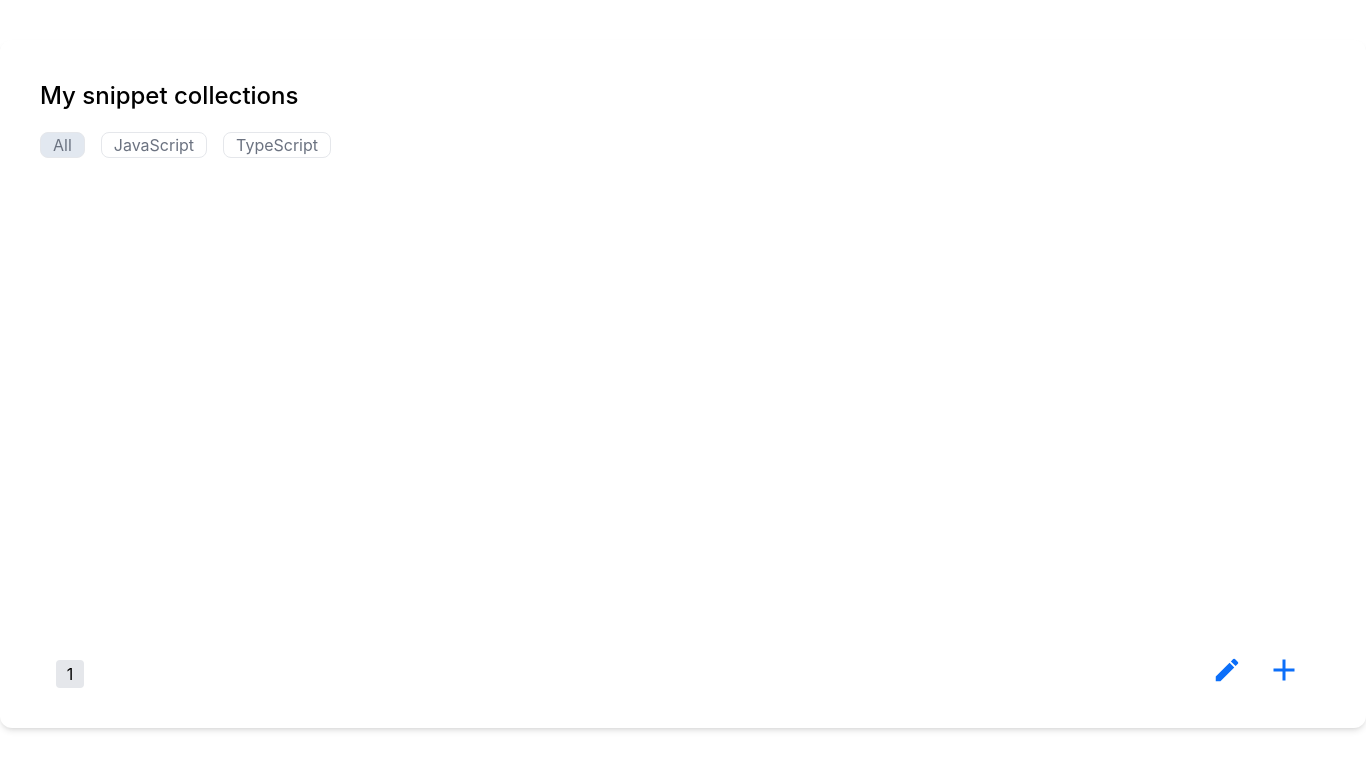
it: Given a GenericCard component › When it's rendered and someone click the All button › Then it should change its state
Click the button "All" at (62, 145), box [53,133,72,157]
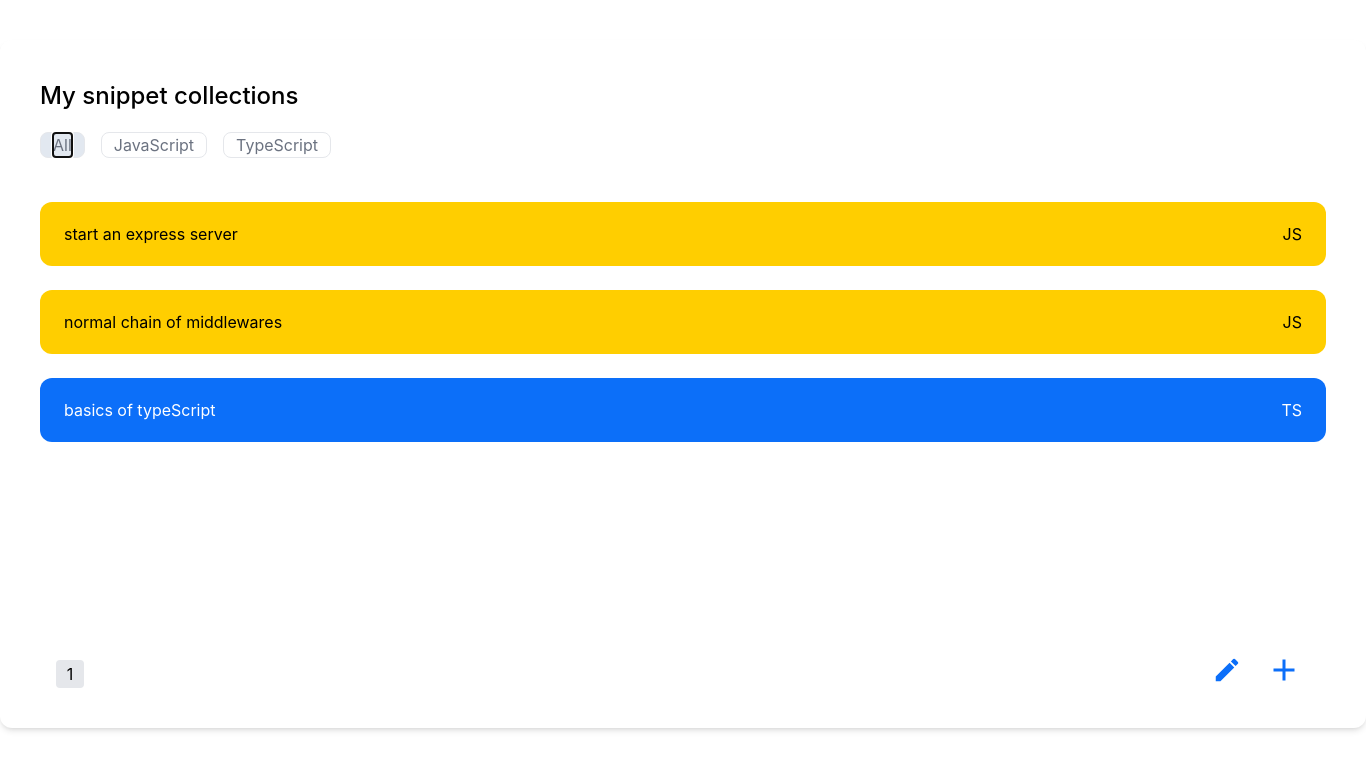
Expected: the link "start an express server JS" is shown, [40,202,1326,266]
